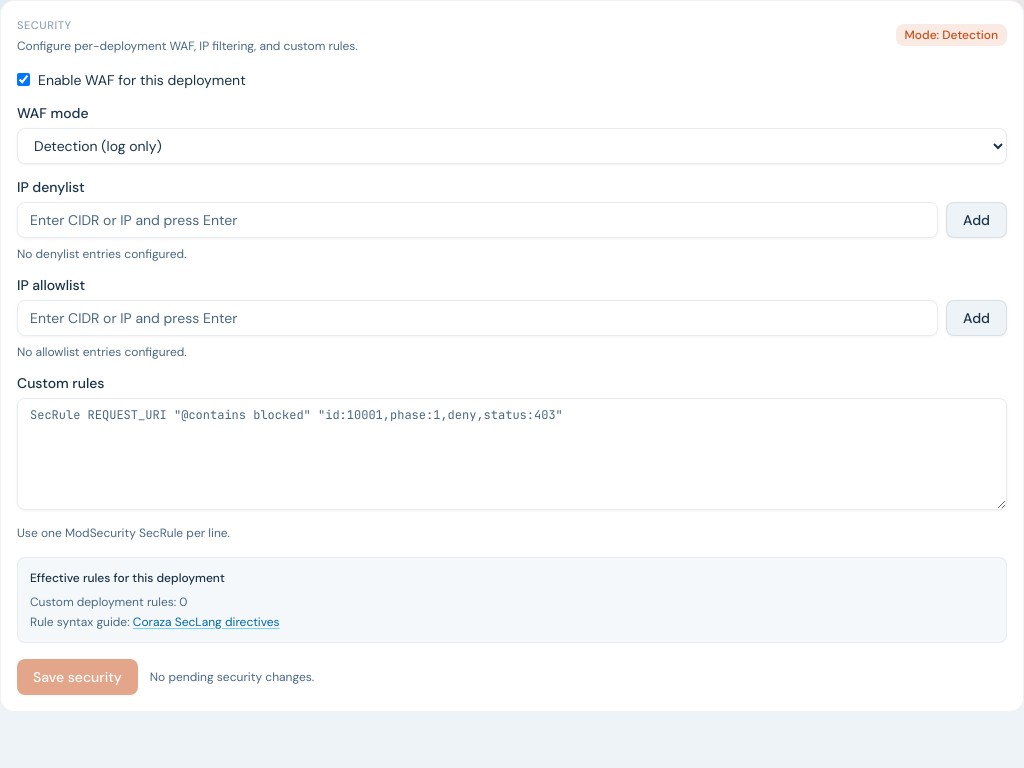
DeploymentSecurityPanel › rejects invalid CIDR entries client-side
Type "not-an-ip" into the field labelled "IP denylist" at (478, 220), box [17,202,938,238]
Then press Enter
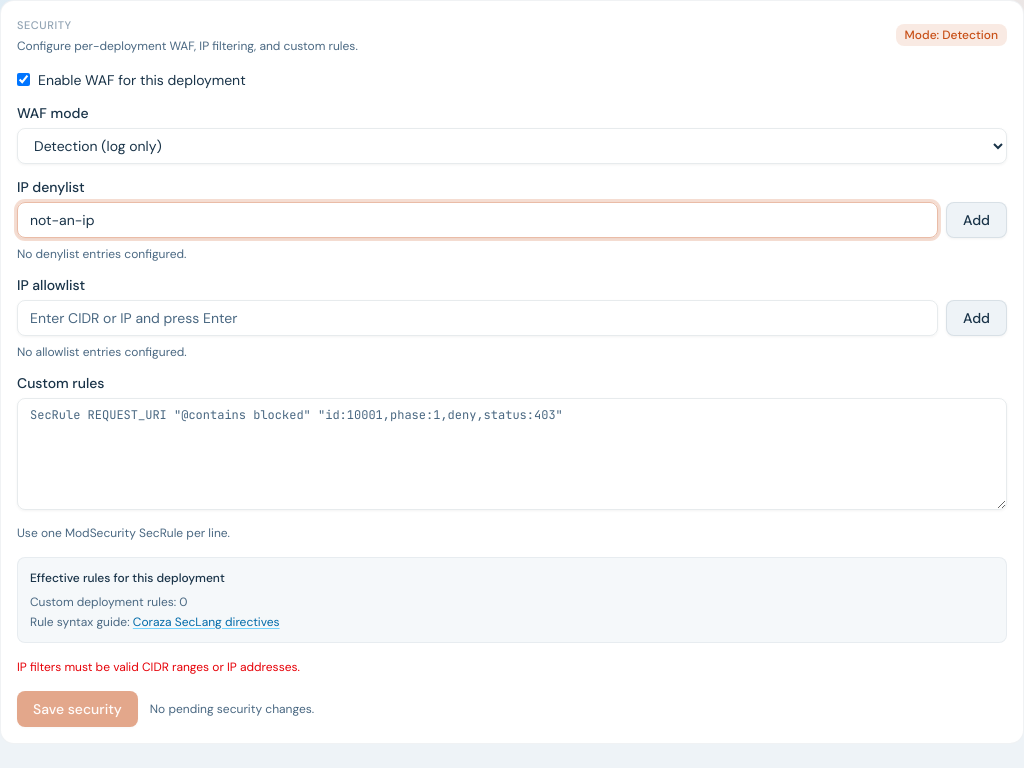
Expected: the text "IP filters must be valid CIDR ranges or IP addresses." is shown, [17,658,300,674]
